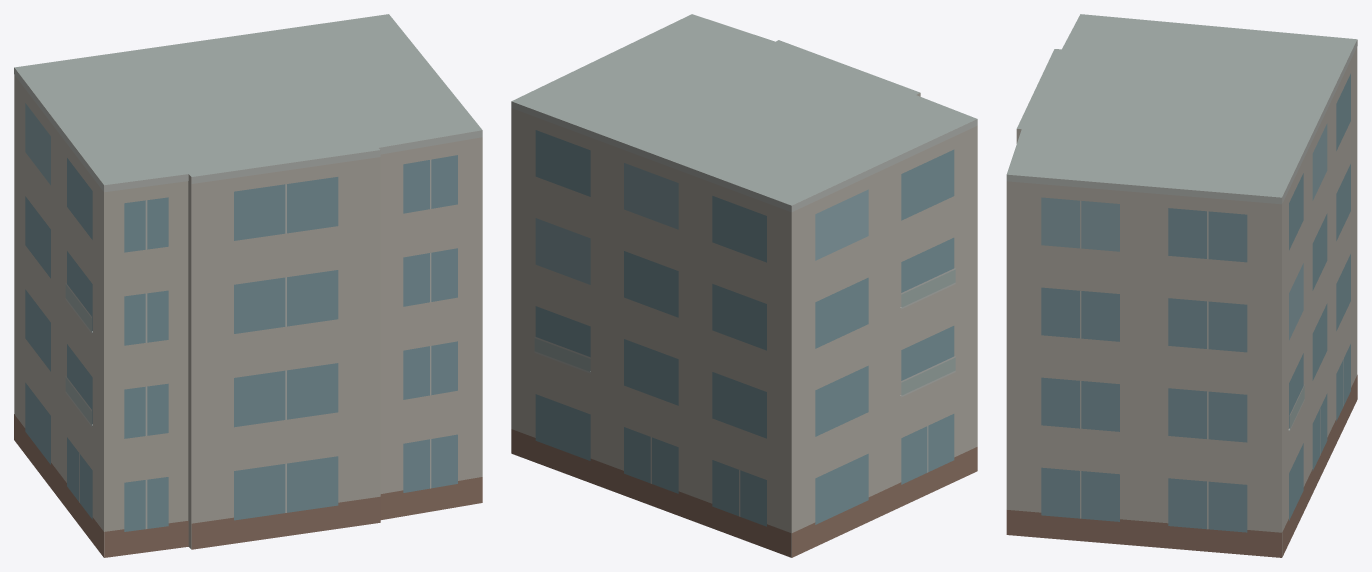
Rendered from survey-upis-32652851.glb.
The picture shows the model from 3 angles, left to right: view 1: azimuth 30°, elevation 25°; view 2: azimuth 150°, elevation 25°; view 3: azimuth 270°, elevation 25°; orthographic projection. The views are drawn at different scales.
Parts seen in each view (by area): view 1: survey-upis-32652851.tmp; view 2: survey-upis-32652851.tmp; view 3: survey-upis-32652851.tmp.
Part boxes in pixels (bbox=[...]): survey-upis-32652851.tmp: bbox=[14, 14, 482, 557]; survey-upis-32652851.tmp: bbox=[511, 14, 977, 557]; survey-upis-32652851.tmp: bbox=[1006, 14, 1357, 557].
Bounding box in the file's own units: 14.22 × 13 × 11.49.
